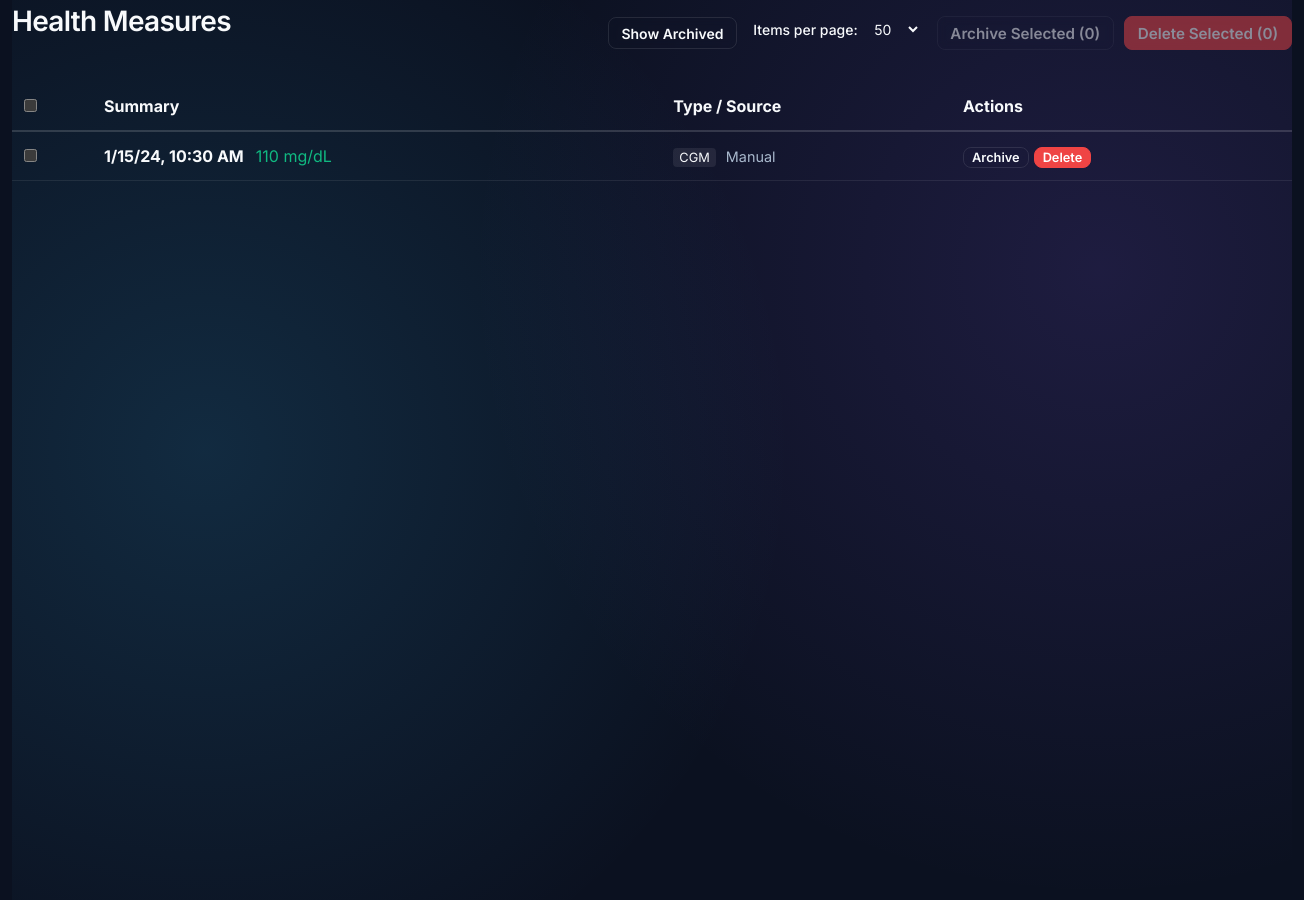
Test: MeasureList › selects individual row via checkbox
Expected: the text "CGM" is shown, left=673, top=148, right=716, bottom=167
// Find row checkboxes (skip the "select all" header checkbox)
Click the 2nd checkbox. click: click(30, 156)
box: left=24, top=149, right=37, bottom=162
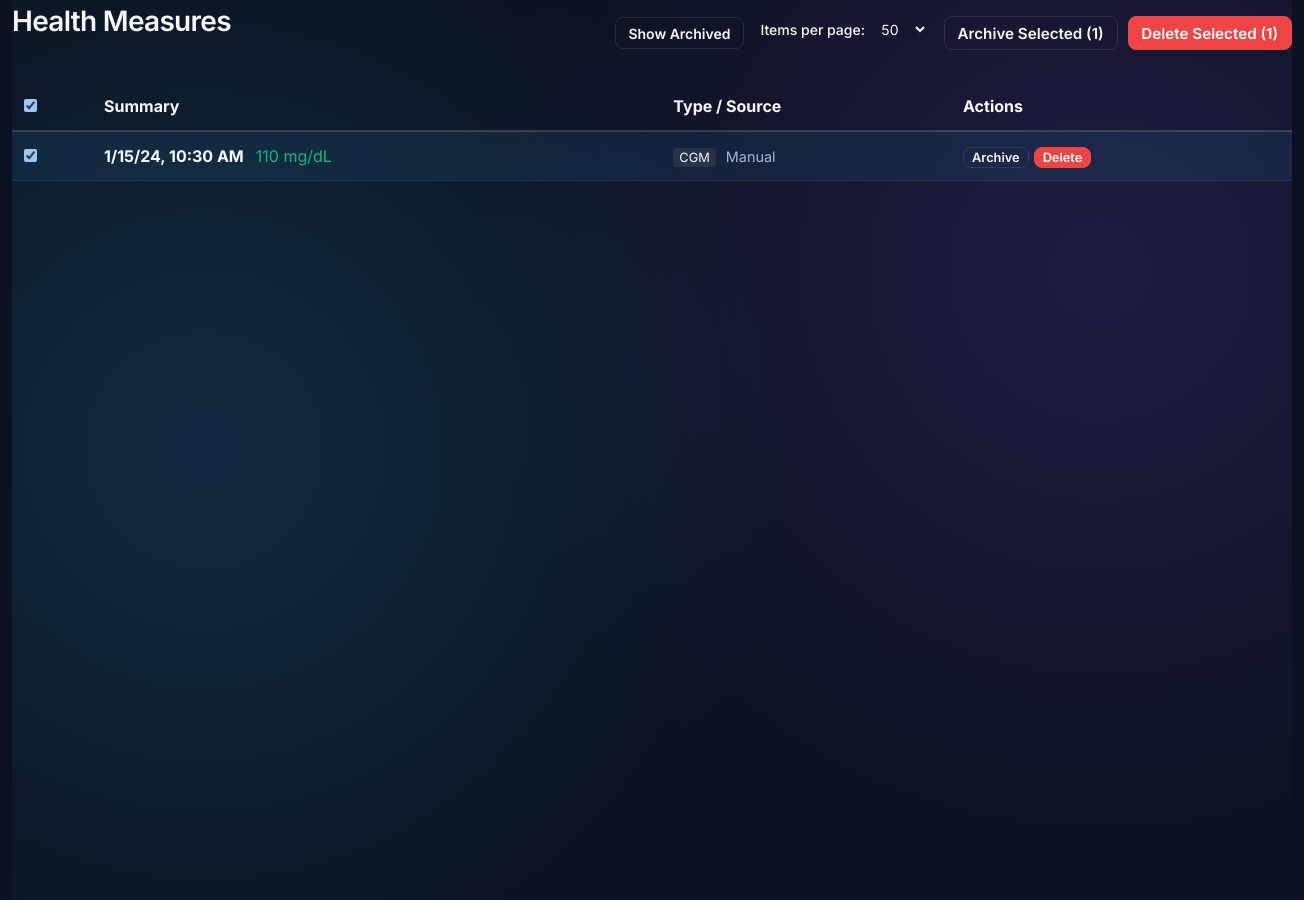
Result: the button "Archive Selected (1)" is enabled at left=944, top=16, right=1118, bottom=50
